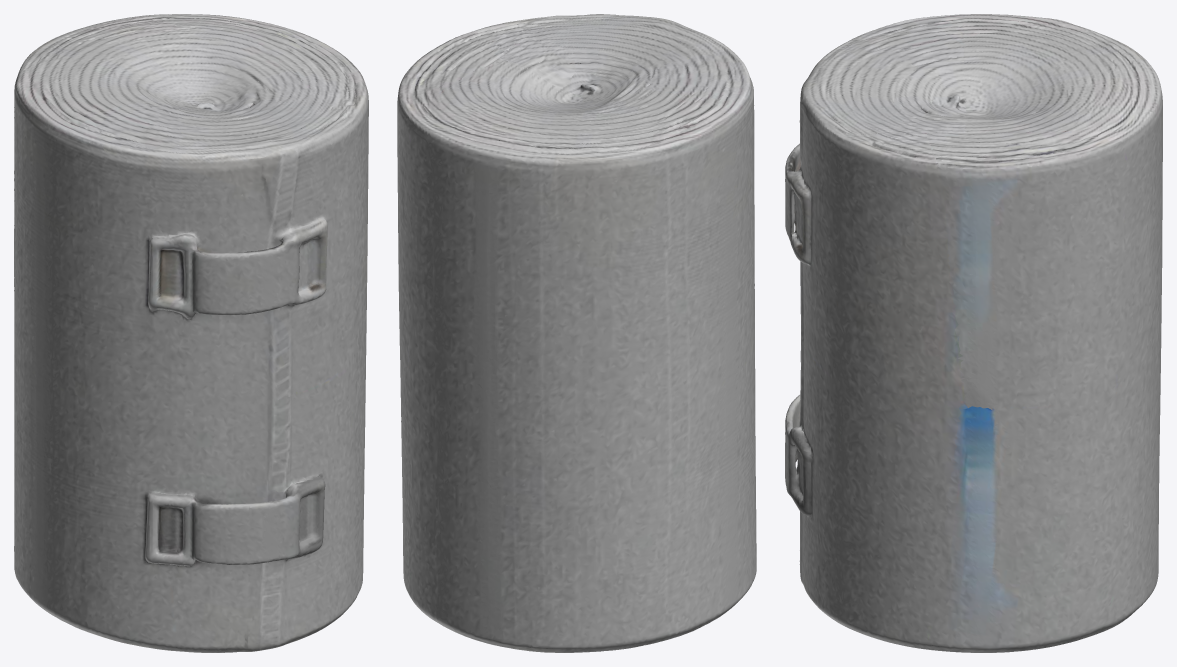
Rendered from Medical Elastic Bandage A.fbx.
The picture shows the model from 3 angles, left to right: view 1: azimuth 30°, elevation 25°; view 2: azimuth 150°, elevation 25°; view 3: azimuth 270°, elevation 25°; orthographic projection.
Visible parts, largest first — view 1: Medical Elastic Bandage A; view 2: Medical Elastic Bandage A; view 3: Medical Elastic Bandage A.
Part boxes in pixels (x1=…): Medical Elastic Bandage A: x1=14, y1=14, x2=368, y2=652; Medical Elastic Bandage A: x1=397, y1=14, x2=756, y2=652; Medical Elastic Bandage A: x1=785, y1=14, x2=1162, y2=652.
Size of the model in its own units: 3.87 by 6.11 by 4.14.
1 material, 1 textured.
